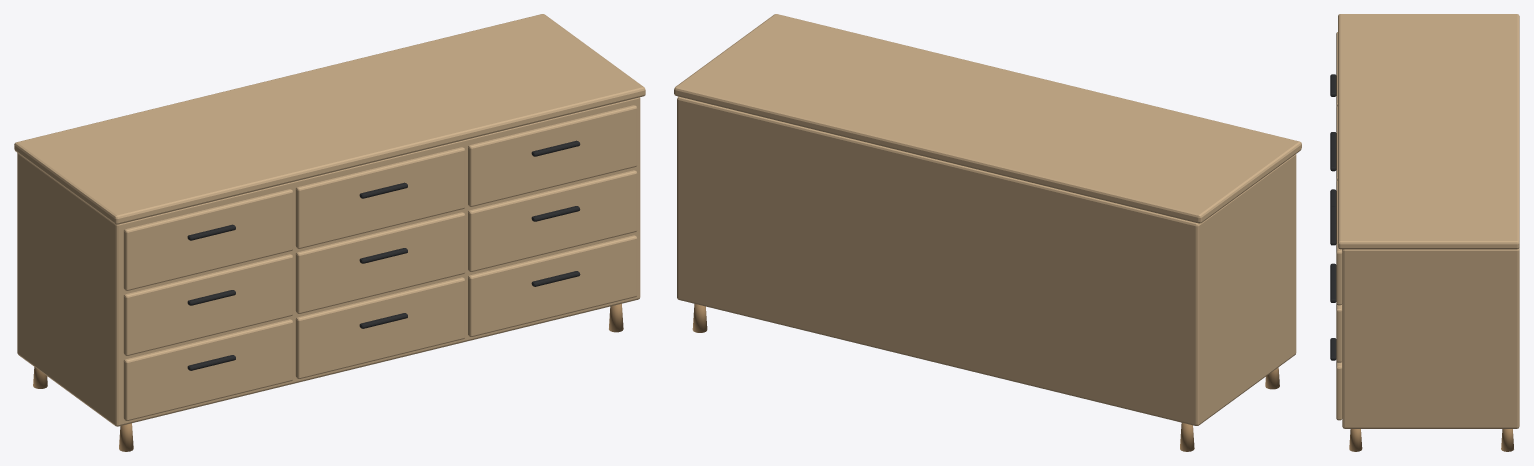
Rendered from dresserLow.glb.
3 views of the same model, side by side, from view 1: azimuth 30°, elevation 25°; view 2: azimuth 150°, elevation 25°; view 3: azimuth 270°, elevation 25° (orthographic). The views are drawn at different scales.
Parts seen in each view (by area): view 1: dresserLow, drawer; view 2: dresserLow; view 3: dresserLow.
Boxes of the visible parts, x1,y1,x2,y2 form: dresserLow: (14, 14, 645, 451); drawer: (295, 212, 465, 313); dresserLow: (674, 14, 1301, 451); dresserLow: (1330, 14, 1519, 451).
Bounding box in the file's own units: 1.82 × 0.8 × 0.635.
